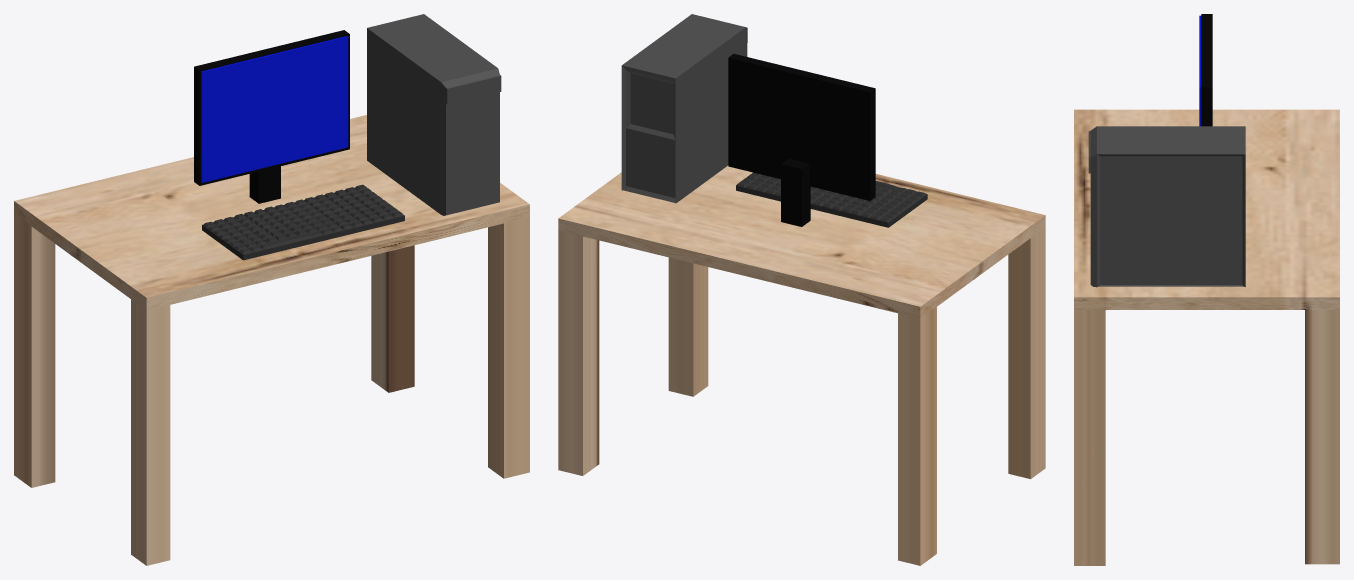
Rendered from table.glb.
3 views of the same model, side by side, from view 1: azimuth 30°, elevation 25°; view 2: azimuth 150°, elevation 25°; view 3: azimuth 270°, elevation 25° (orthographic). The views are drawn at different scales.
Parts seen in each view (by area): view 1: Cube_0, Cube.004_6, Cube.005_7, Cube.003_5, Cube.001_3, Cube.002_4; view 2: Cube_0, Cube.004_6, Cube.001_3, Cube.003_5, Cube.002_4; view 3: Cube_0, Cube.004_6, Cube.001_3.
Part boxes in pixels (x1,y1,x2,y2): Cube_0: [14, 115, 529, 565]; Cube.004_6: [367, 14, 501, 215]; Cube.005_7: [201, 36, 348, 182]; Cube.003_5: [202, 184, 404, 260]; Cube.001_3: [194, 30, 349, 185]; Cube.002_4: [249, 166, 280, 203]; Cube_0: [558, 165, 1045, 565]; Cube.004_6: [621, 14, 747, 203]; Cube.001_3: [728, 53, 875, 200]; Cube.003_5: [736, 172, 927, 227]; Cube.002_4: [781, 158, 810, 226]; Cube_0: [1074, 109, 1339, 565]; Cube.004_6: [1088, 126, 1245, 287]; Cube.001_3: [1201, 14, 1212, 126].
Bounding box in the file's own units: 3.34 × 3.55 × 2.
6 materials, 1 textured.
